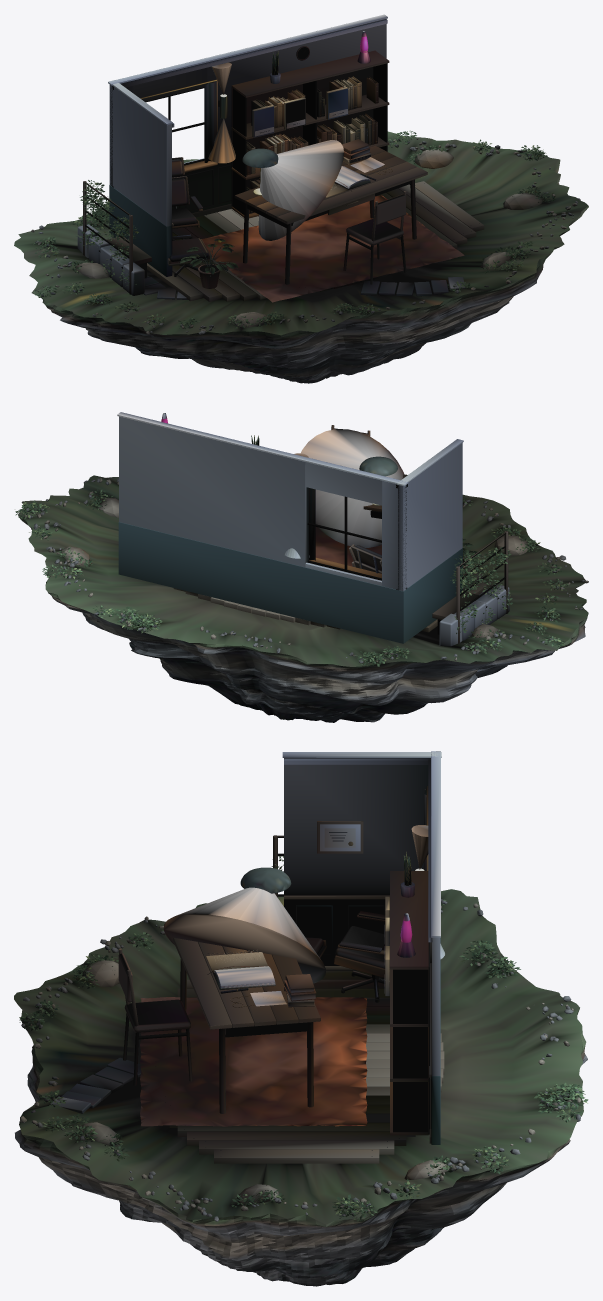
The model's file is flight-writing-226f7cb1.glb.
3 renders of one model, top to bottom at view 1: azimuth 30°, elevation 25°; view 2: azimuth 150°, elevation 25°; view 3: azimuth 270°, elevation 25°, orthographic. The views are drawn at different scales.
Visible parts, largest first — view 1: Writing island · flight.001; view 2: Writing island · flight.001; view 3: Writing island · flight.001.
Part boxes in pixels (x1=…): Writing island · flight.001: x1=14, y1=14, x2=588, y2=383; Writing island · flight.001: x1=15, y1=412, x2=588, y2=722; Writing island · flight.001: x1=14, y1=751, x2=588, y2=1286.
Bounding box in the file's own units: 11.74 × 6.48 × 8.16.
